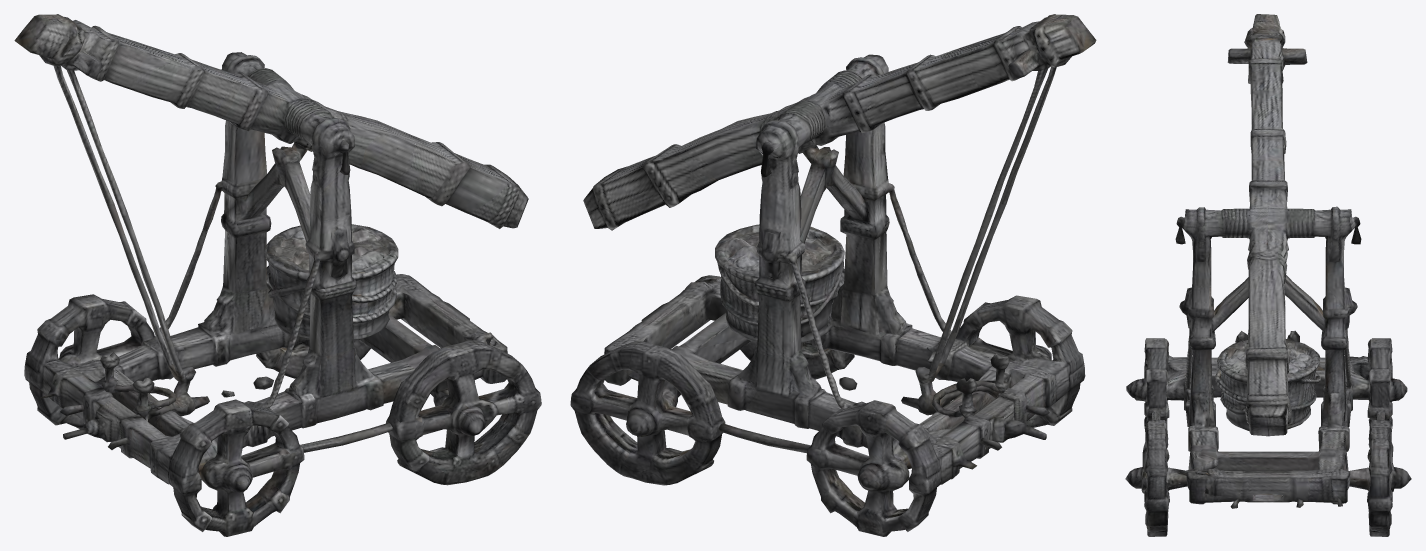
File: Guelphs_Catapult.glb
The picture shows the model from 3 angles, left to right: view 1: azimuth 30°, elevation 25°; view 2: azimuth 150°, elevation 25°; view 3: azimuth 270°, elevation 25°; orthographic projection. The views are drawn at different scales.
Bounding box in the file's own units: 1.91 × 1.8 × 1.23.
Materials: 1 (1 with a texture image).
